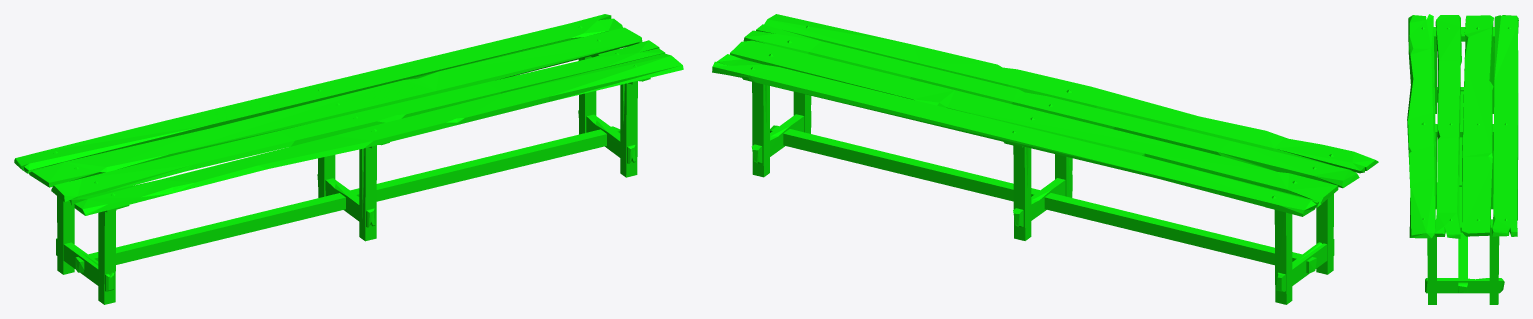
Rendered from SM_Table_Market_A_Long.fbx.
3 views of the same model, side by side, from view 1: azimuth 30°, elevation 25°; view 2: azimuth 150°, elevation 25°; view 3: azimuth 270°, elevation 25° (orthographic). The views are drawn at different scales.
Parts seen in each view (by area): view 1: table-market-a-long; view 2: table-market-a-long; view 3: table-market-a-long.
Boxes of the visible parts, x1,y1,x2,y2 form: table-market-a-long: (14,14,683,304); table-market-a-long: (712,14,1378,304); table-market-a-long: (1407,14,1518,304).
Size of the model in its own units: 4.61 by 0.8323 by 0.9894.
